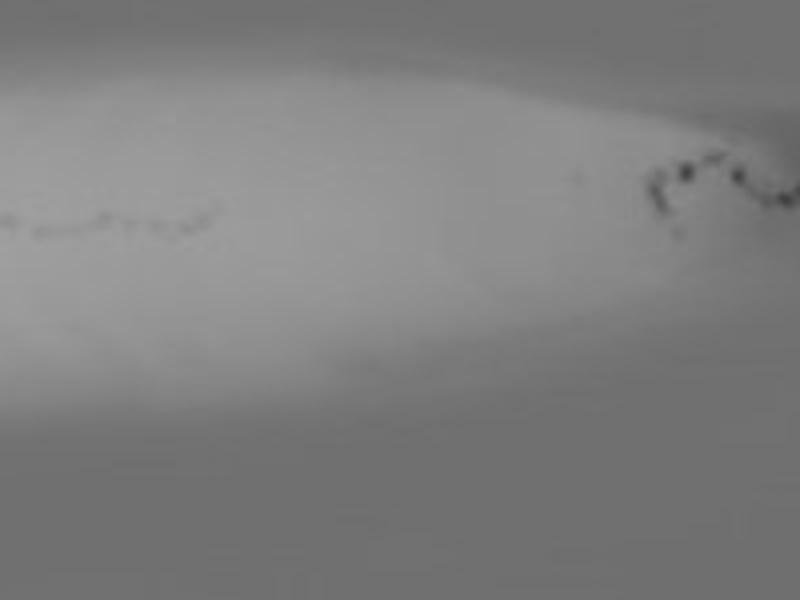defect: (646, 178, 675, 218), (675, 156, 695, 182), (701, 141, 724, 163), (769, 189, 792, 209), (96, 209, 116, 231), (733, 167, 751, 190), (195, 211, 218, 228), (171, 219, 190, 238)
